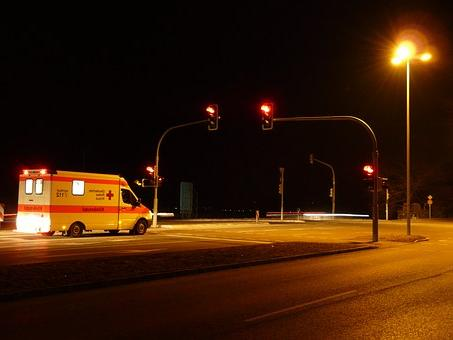trafic: (208, 103, 218, 130), (260, 102, 270, 129)
